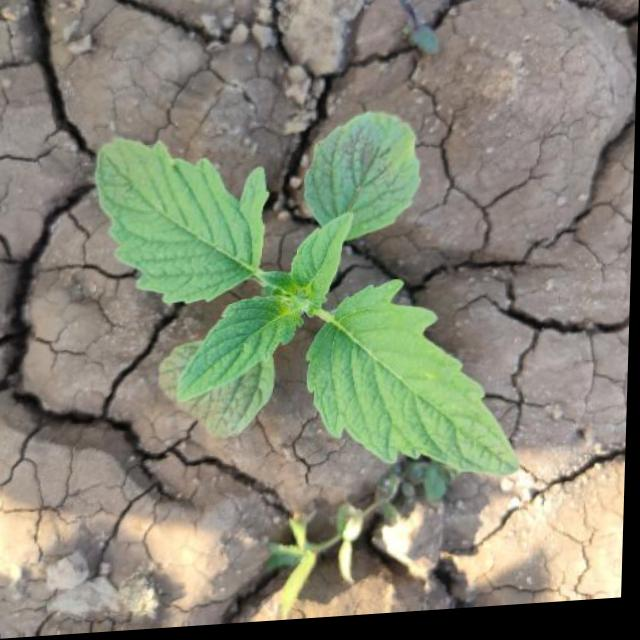crop: (73, 101, 568, 531)
